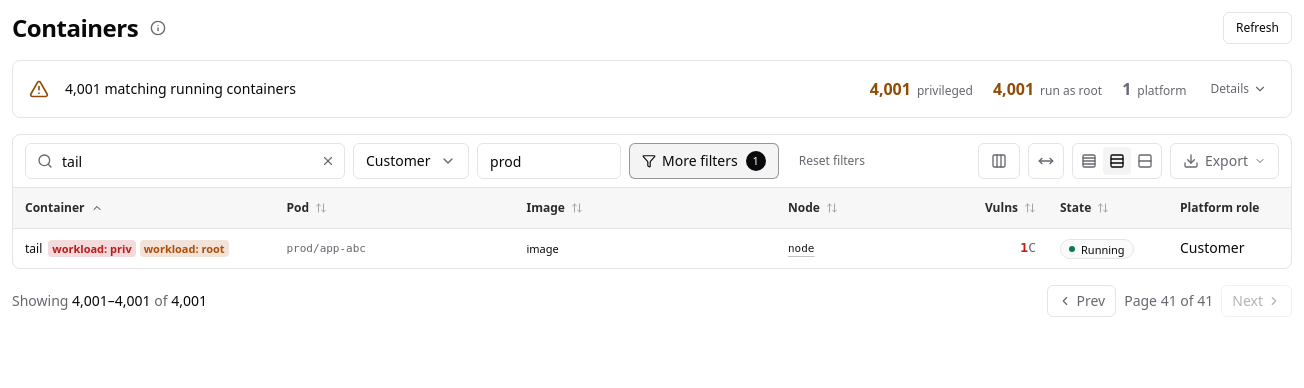
Test case: loads and exports the exact source cohort beyond the former3000 cap
Press Enter in the button "Export", box [1170, 143, 1279, 179]
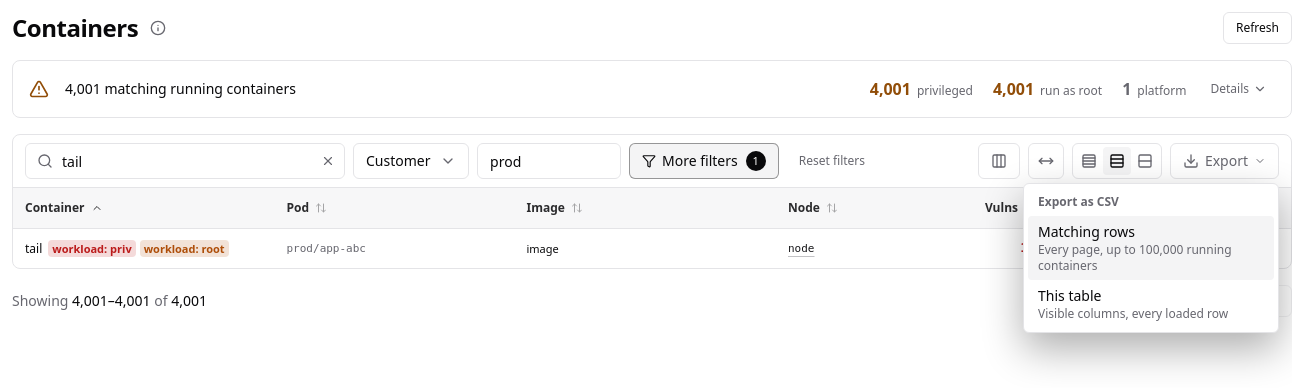
Click the menu item "Matching rows Every page, up to 100,000 running containers".
click(1151, 248)  # box [1028, 216, 1274, 280]
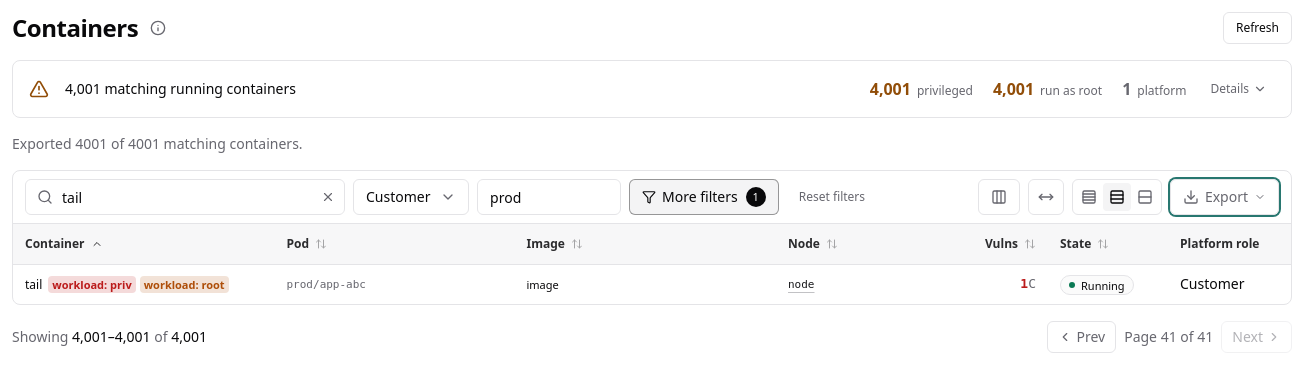
Check: the text "Exported 4001 of 4001" is shown, box [12, 134, 303, 153]
